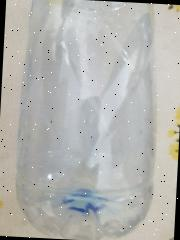plastic: (12, 0, 163, 240)
